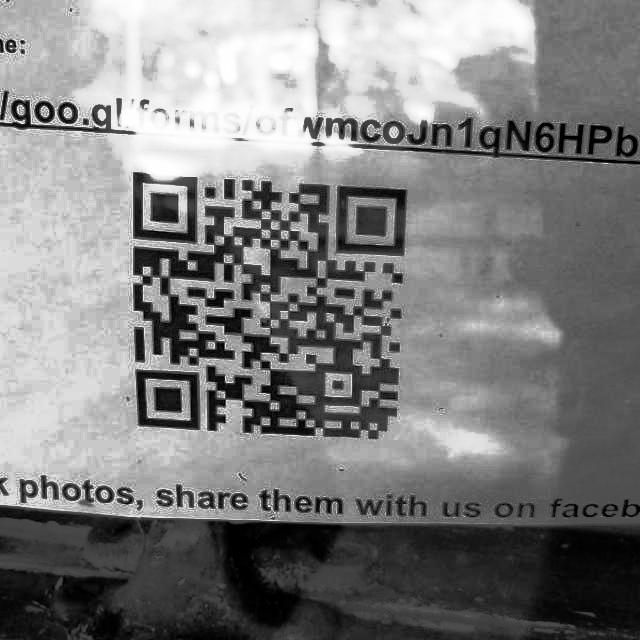qr_code: (108, 142, 418, 466)
